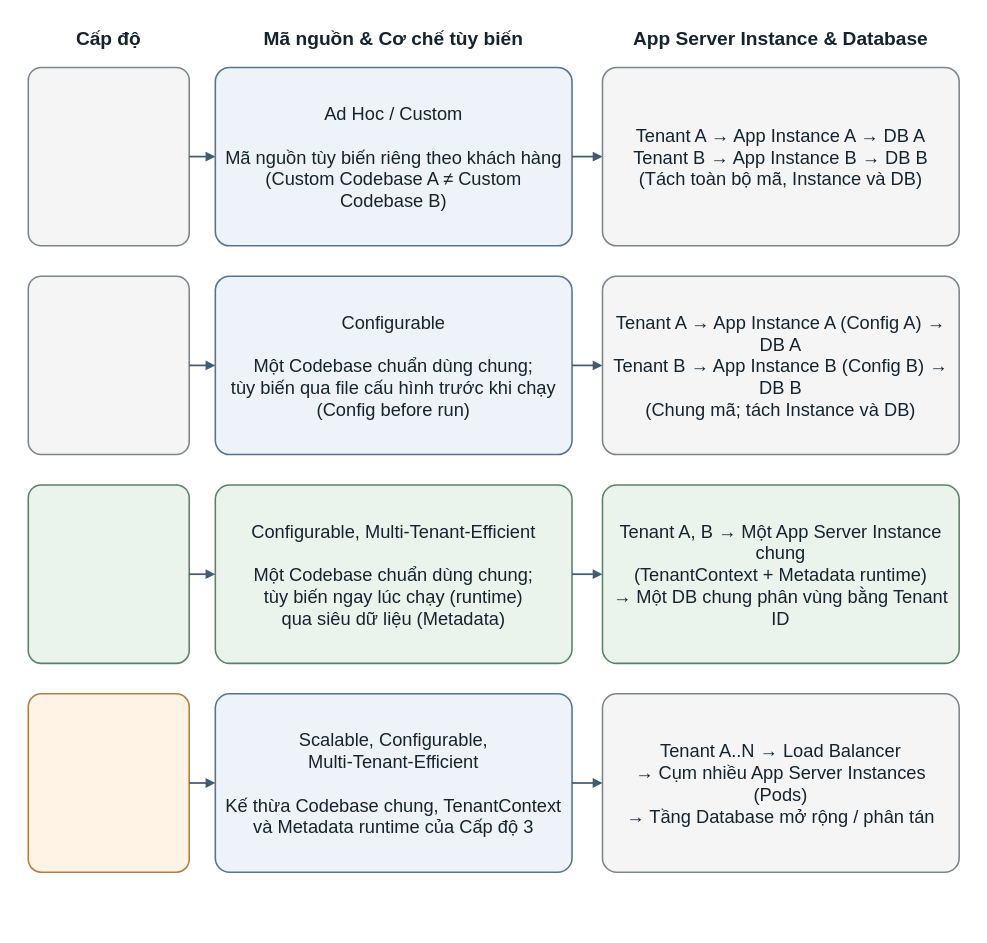
The diagram is 987 pixels wide and 943 high, and some of its shapes have lost their labels. Each missing label, with the box of its shape:
CẤP ĐỘ 1 (Đối chiếu): (27, 66, 190, 246)
CẤP ĐỘ 2 (Chuẩn hóa mã): (27, 275, 190, 455)
CẤP ĐỘ 3 (Mục tiêu đề tài): (27, 484, 190, 664)
CẤP ĐỘ 4 (Hướng phát triển): (27, 693, 190, 873)
